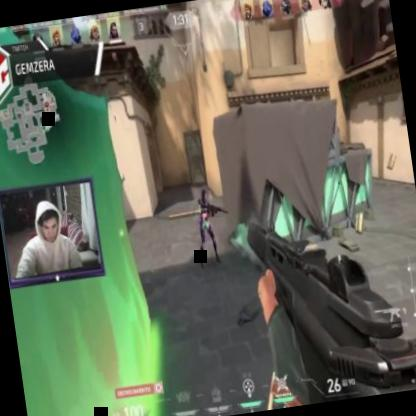enemy: (189, 188, 222, 266)
enemy_head: (200, 188, 208, 204)
